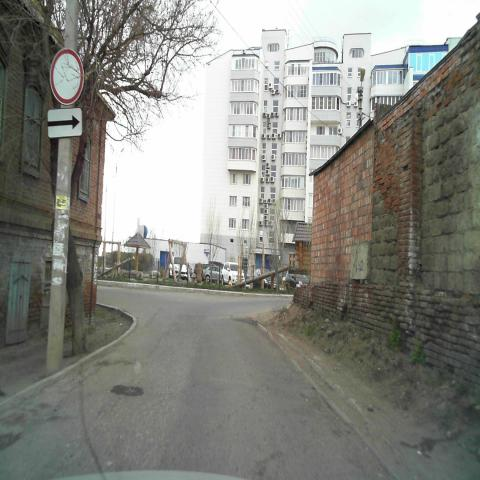3_2: (49, 48, 85, 106)
8_3_1: (47, 108, 82, 138)
